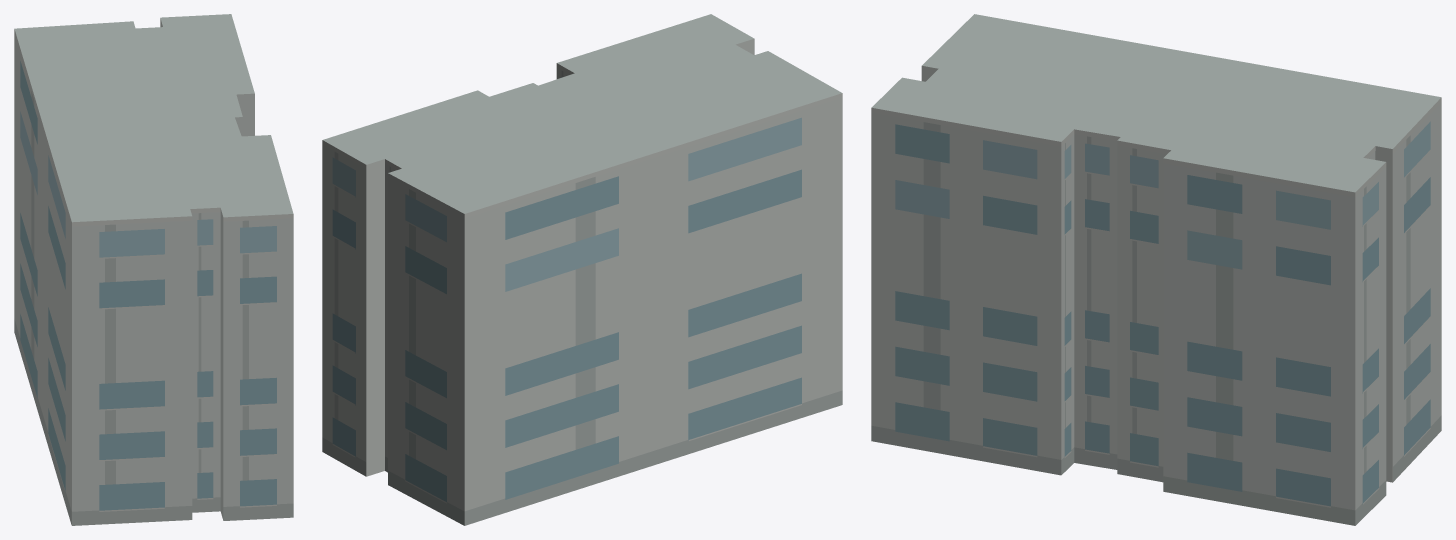
Rendered from survey-upis-32747870.glb.
The picture shows the model from 3 angles, left to right: view 1: azimuth 30°, elevation 25°; view 2: azimuth 150°, elevation 25°; view 3: azimuth 270°, elevation 25°; orthographic projection. The views are drawn at different scales.
Visible parts, largest first — view 1: survey-upis-32747870.tmp; view 2: survey-upis-32747870.tmp; view 3: survey-upis-32747870.tmp.
Boxes of the visible parts, x1,y1,x2,y2 form: survey-upis-32747870.tmp: (14,14,293,525); survey-upis-32747870.tmp: (322,14,842,525); survey-upis-32747870.tmp: (871,14,1441,525).
Bounding box in the file's own units: 18.94 × 16.5 × 25.57.
